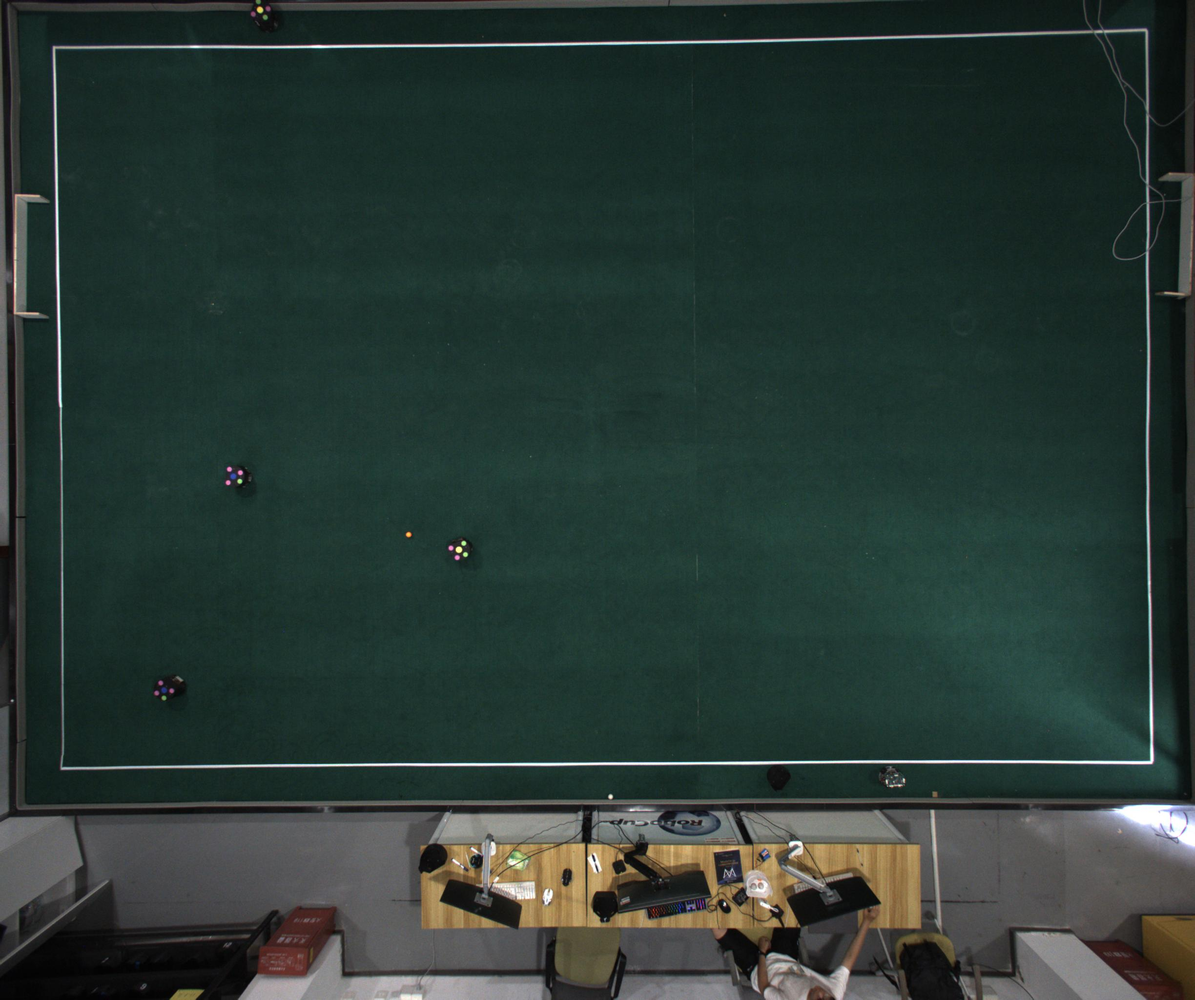ball: (407, 531, 413, 537)
blue_bot: (154, 677, 178, 703), (225, 465, 245, 489)
yellow_bot: (448, 537, 473, 563), (249, 0, 274, 24)
